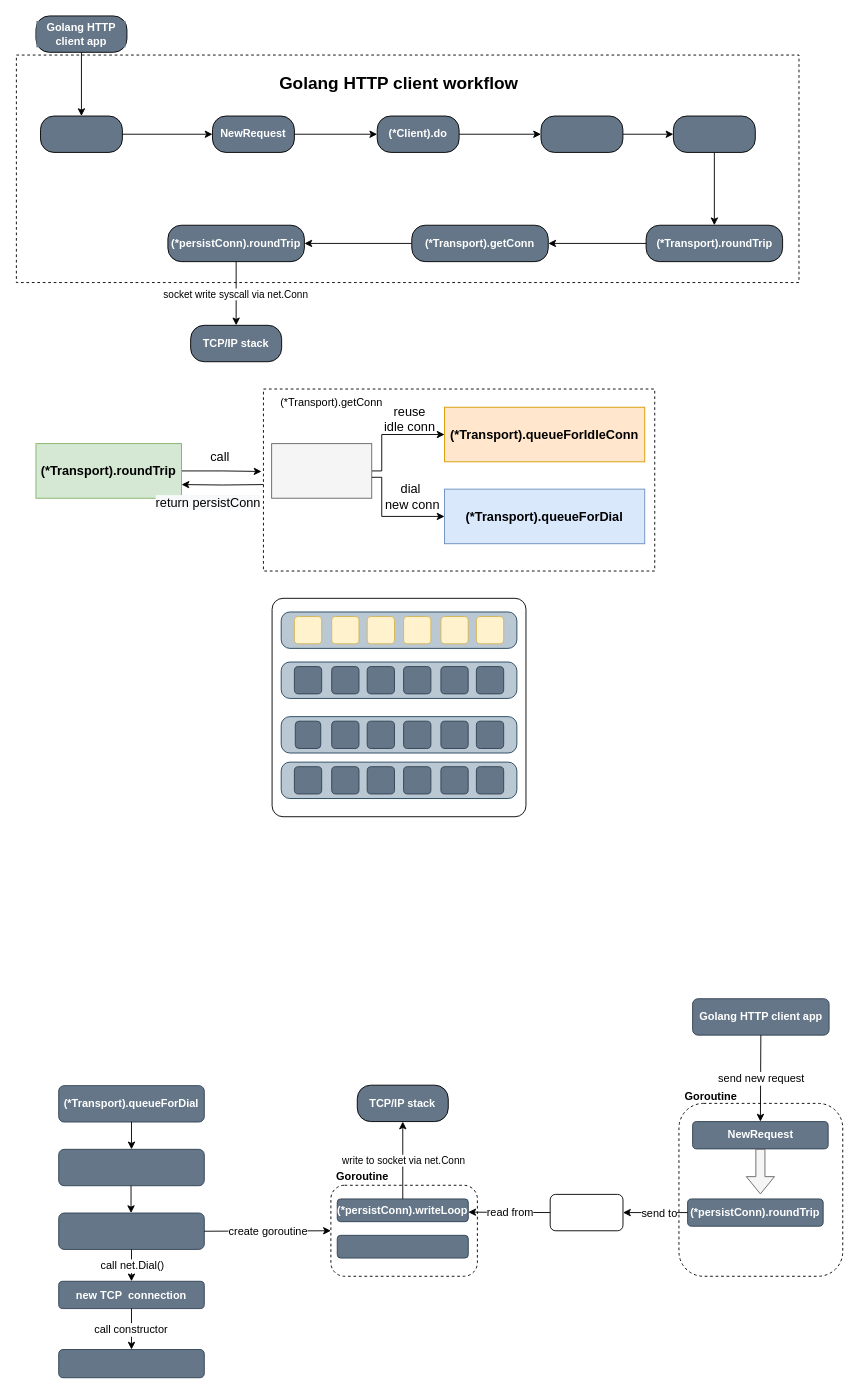
This 859x1394 diagram has some shape labels left out. Each missing label, with the centre of its shape:
"(*Client).Get" goes at point (81, 133).
"(*Client).send" goes at point (581, 133).
"(*persistConn).readLoop" goes at point (402, 1246).
"(*Transport).dialConn" goes at point (131, 1230).
"(*Transport).dialConnFor" goes at point (131, 1167).
"new *persistConn" goes at point (131, 1363).
"send" goes at point (713, 133).
"wantConn" goes at point (321, 470).
"writech channel" goes at point (586, 1212).
